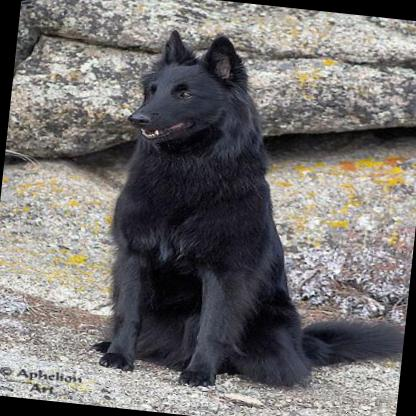groenendael: (84, 19, 416, 408)
